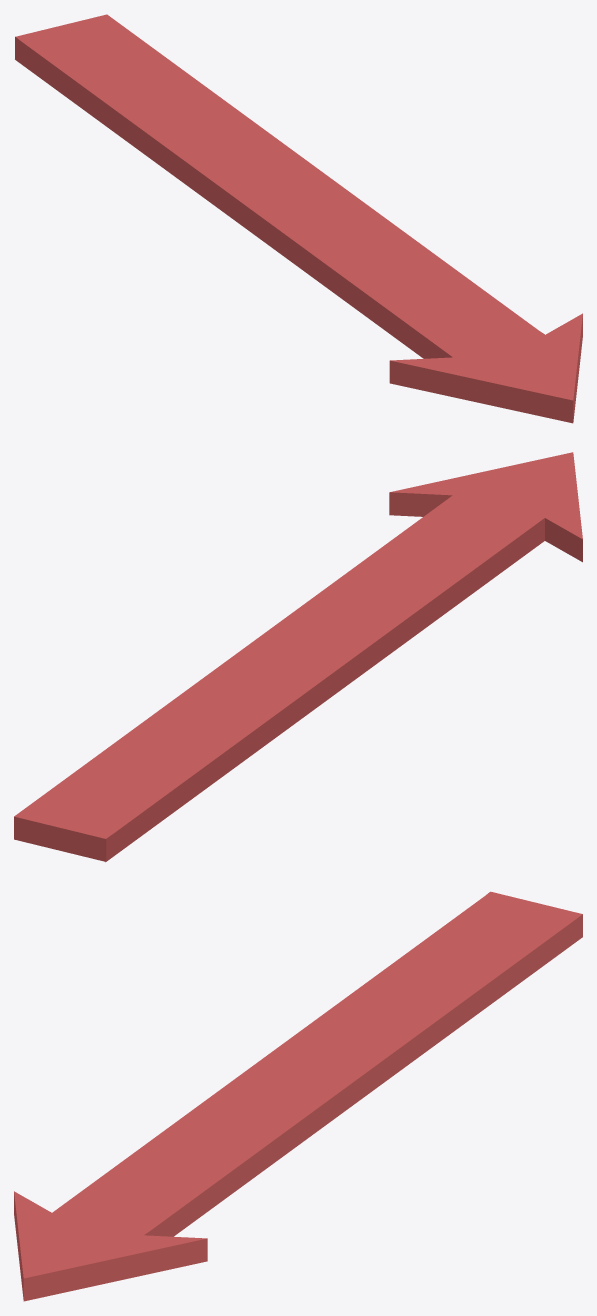
File: objcol_ct_mecha_obj10.glb
3 views of the same model, one above another, from view 1: azimuth 30°, elevation 25°; view 2: azimuth 150°, elevation 25°; view 3: azimuth 330°, elevation 25° (orthographic).
Visible parts, largest first — view 1: ct_mecha_obj10_col; view 2: ct_mecha_obj10_col; view 3: ct_mecha_obj10_col.
Boxes of the visible parts, <box> form: ct_mecha_obj10_col: <box>15,14,582,423</box>; ct_mecha_obj10_col: <box>14,452,582,862</box>; ct_mecha_obj10_col: <box>14,891,582,1301</box>.
Bounding box in the file's own units: 0.3528 × 0.0406 × 1.62.
